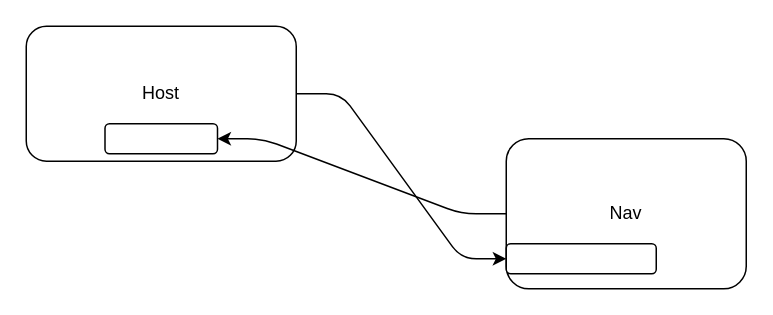
The diagram is 773 pixels wide and 315 high, and some of its shapes have lost their labels. The shapes that lost their labels are listed below. From the top down, each one's box as (x1, y1, x2, y2) in pixels, then its label:
(104, 122, 218, 154): Store
(505, 242, 656, 274): Header
